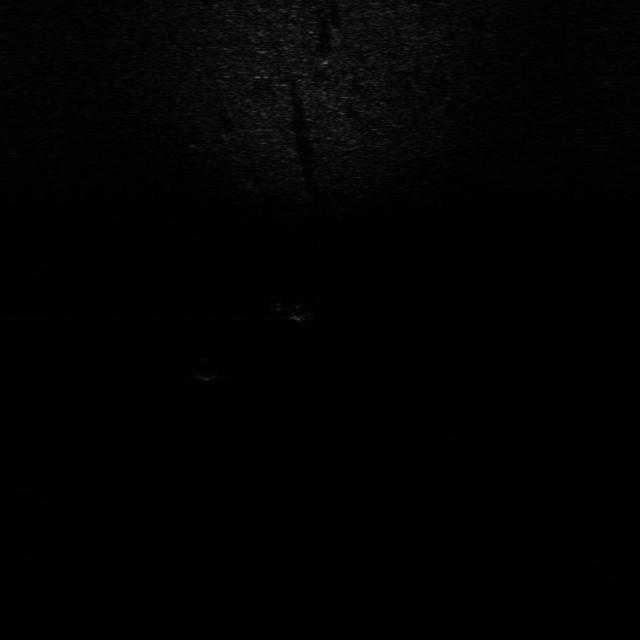ball: (193, 359, 223, 382)
human body: (270, 292, 320, 325)
